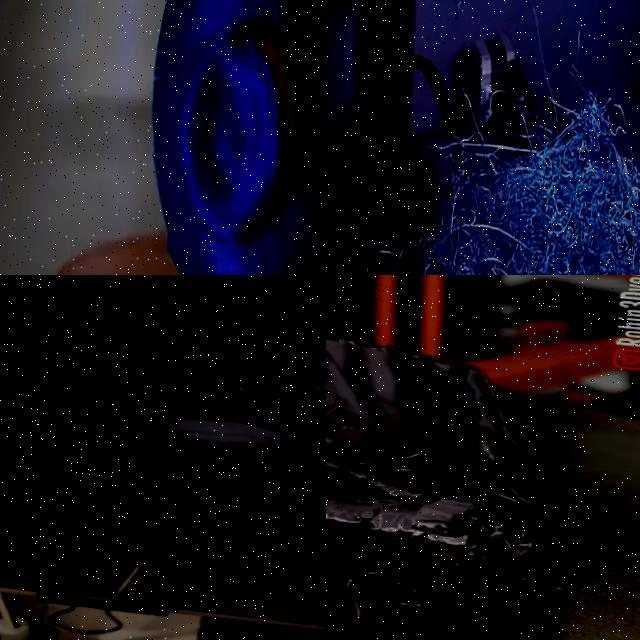spaghetti: (326, 0, 640, 275), (326, 311, 523, 640)
